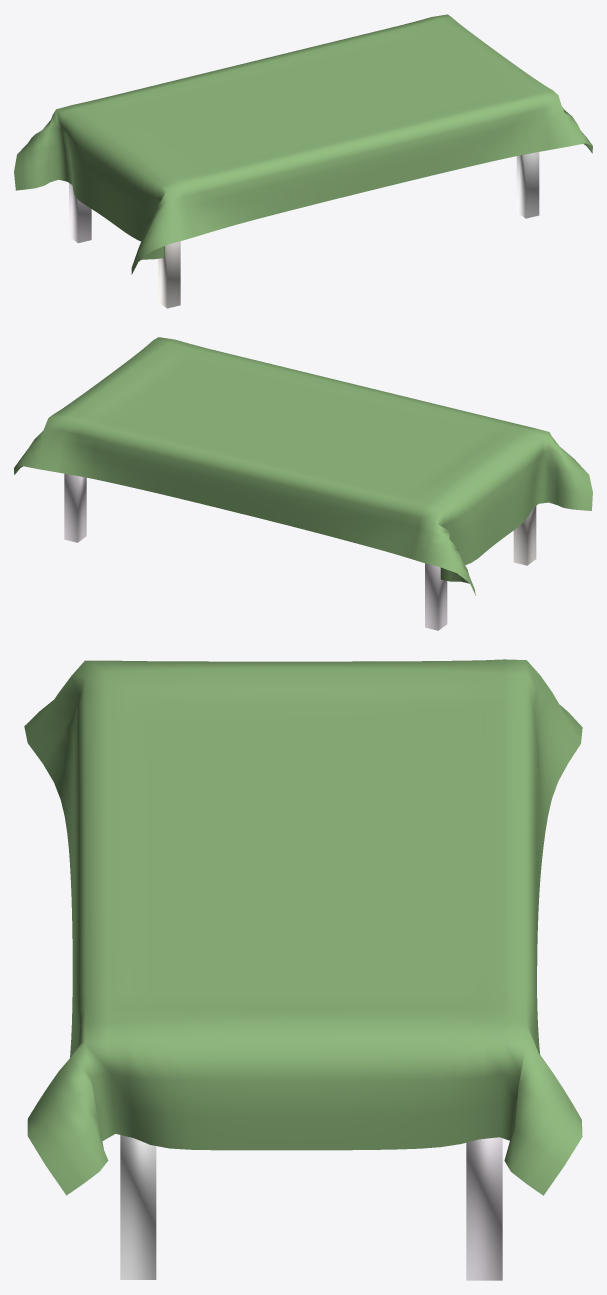
The model's file is KitchenTable.fbx.
The picture shows the model from 3 angles, top to bottom: view 1: azimuth 30°, elevation 25°; view 2: azimuth 150°, elevation 25°; view 3: azimuth 270°, elevation 25°; orthographic projection. The views are drawn at different scales.
Parts seen in each view (by area): view 1: Plane; view 2: Plane; view 3: Plane.
Part boxes in pixels (bbox=[...]): Plane: bbox=[14, 14, 592, 308]; Plane: bbox=[14, 337, 592, 630]; Plane: bbox=[24, 659, 582, 1280].
Bounding box in the file's own units: 638 × 170 × 336.
